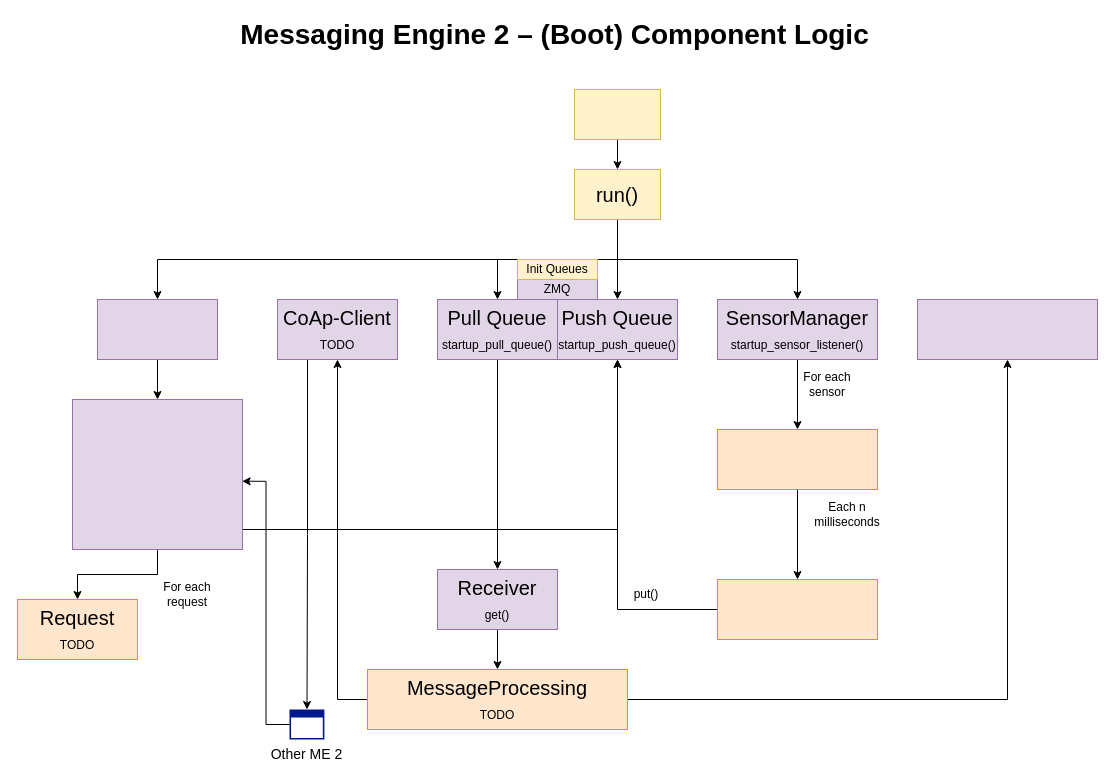
Some shapes in this 1115 by 780 pixel diagram are drawn without their labels. Each missing label, with the centre of its shape:
ActuatorManager TODO: [1007,329]
CoAp-Server startup_server(): [157,329]
Endpoint-Handler /flows /health /hello /messages /nodes /operations: [157,474]
main(): [617,114]
SensorListener listen_sensor(): [797,459]
SensorReader single_sensor_read(): [797,609]
